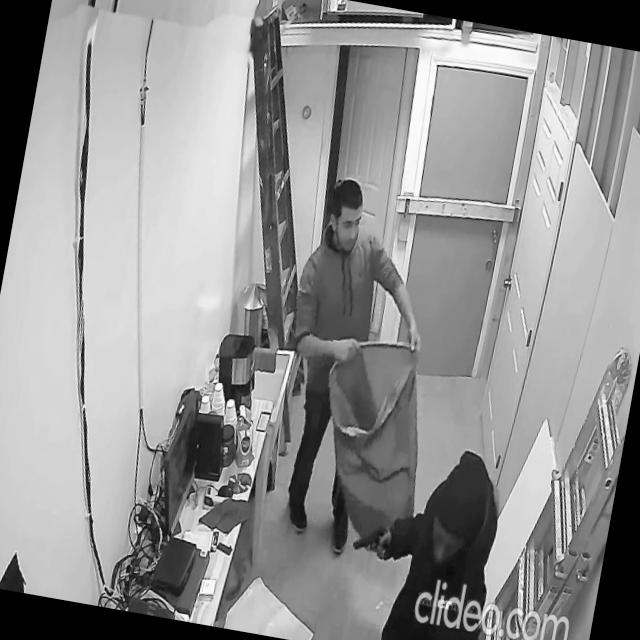gun: (351, 521, 388, 556)
person: (252, 172, 446, 564), (359, 434, 511, 640)
person with a gun: (334, 431, 510, 640)
